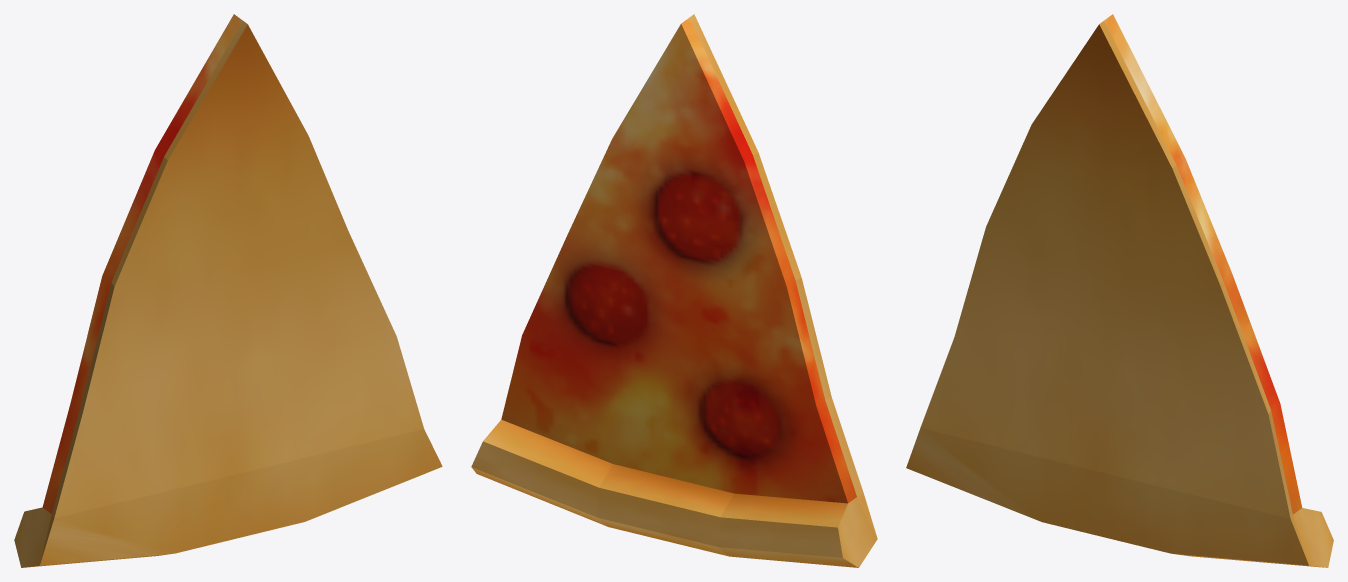
The model's file is Pizza.fbx.
3 renders of one model, left to right at view 1: azimuth 30°, elevation 25°; view 2: azimuth 150°, elevation 25°; view 3: azimuth 330°, elevation 25°, orthographic. The views are drawn at different scales.
Visible parts, largest first — view 1: Pizza; view 2: Pizza; view 3: Pizza.
Part boxes in pixels (x1,y1,x2,y2): Pizza: (14,14,442,567); Pizza: (471,14,877,567); Pizza: (906,14,1333,567).
Bounding box in the file's own units: 12.01 × 1.99 × 15.26.
